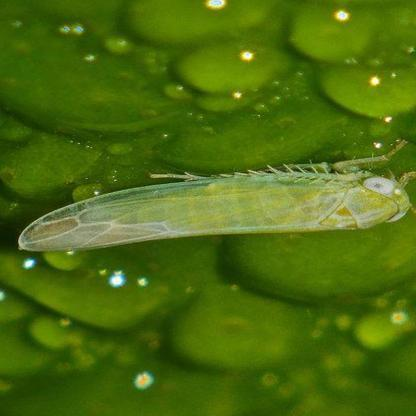green-leafhopper: (19, 146, 413, 250)
